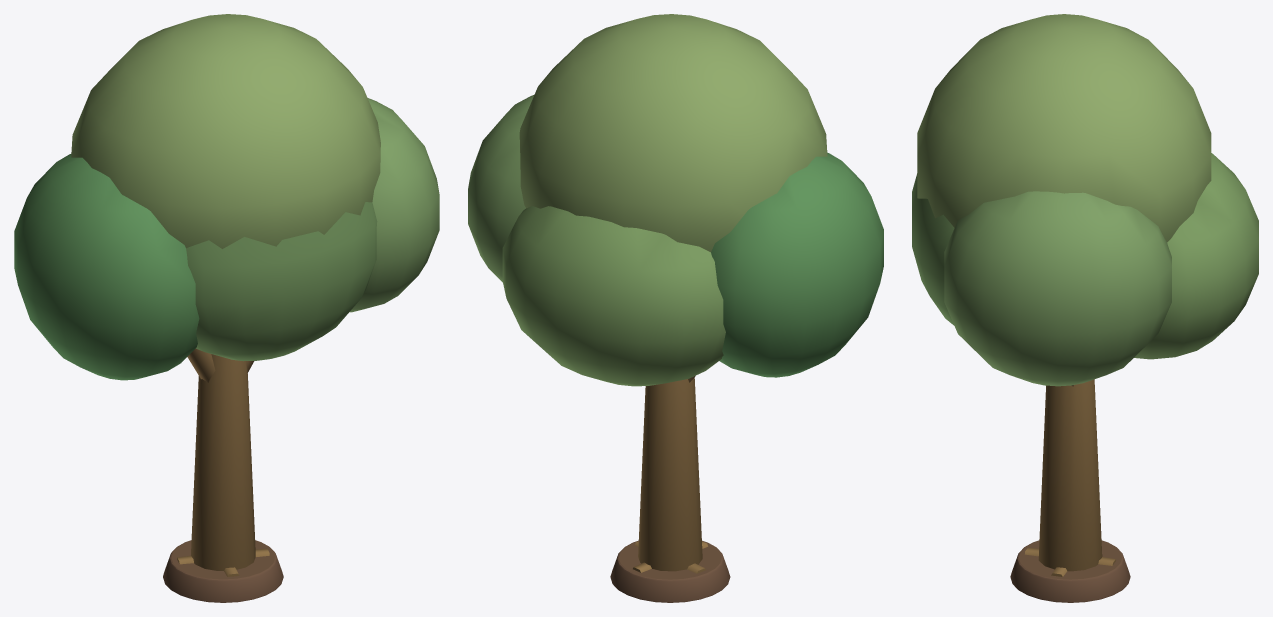
The model's file is tree_stage1.glb.
The picture shows the model from 3 angles, left to right: view 1: azimuth 30°, elevation 25°; view 2: azimuth 150°, elevation 25°; view 3: azimuth 270°, elevation 25°; orthographic projection.
Size of the model in its own units: 0.7297 by 1 by 0.5721.
